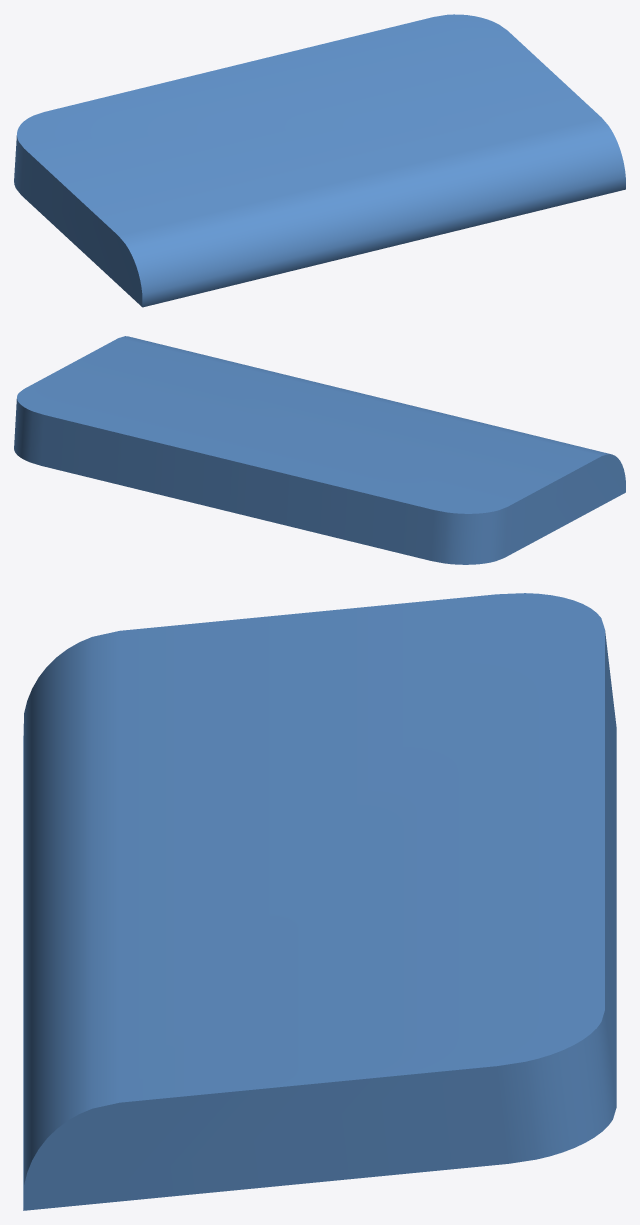
Rendered from original-23.obj.
The picture shows the model from 3 angles, top to bottom: view 1: azimuth 30°, elevation 25°; view 2: azimuth 150°, elevation 25°; view 3: azimuth 270°, elevation 25°; orthographic projection. The views are drawn at different scales.
Visible parts, largest first — view 1: Function_Keys_2_2/Function_Keys_2_1_2/mesh34/mesh34-geometry#mes; view 2: Function_Keys_2_2/Function_Keys_2_1_2/mesh34/mesh34-geometry#mes; view 3: Function_Keys_2_2/Function_Keys_2_1_2/mesh34/mesh34-geometry#mes.
Part boxes in pixels (x1,y1,x2,y2): Function_Keys_2_2/Function_Keys_2_1_2/mesh34/mesh34-geometry#mes: [14, 14, 625, 307]; Function_Keys_2_2/Function_Keys_2_1_2/mesh34/mesh34-geometry#mes: [14, 336, 625, 564]; Function_Keys_2_2/Function_Keys_2_1_2/mesh34/mesh34-geometry#mes: [23, 593, 616, 1210].
Bounding box in the file's own units: 0.1069 × 0.0164 × 0.0568.
